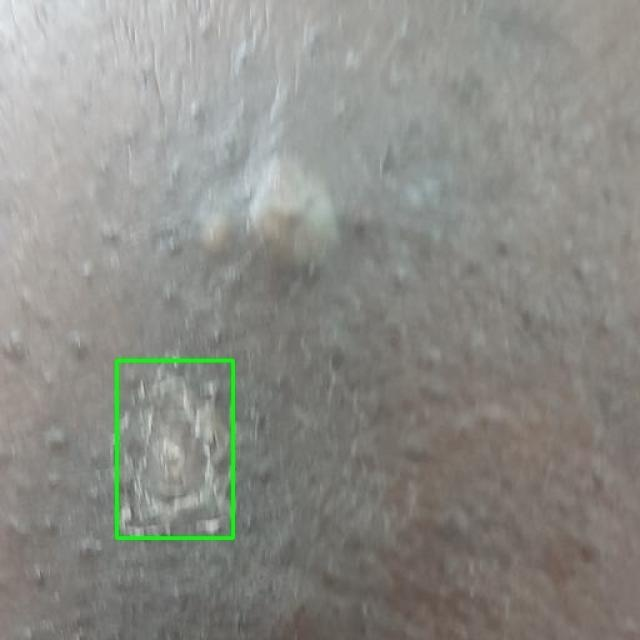Seborrheic Dermatitis: (116, 360, 232, 538)
